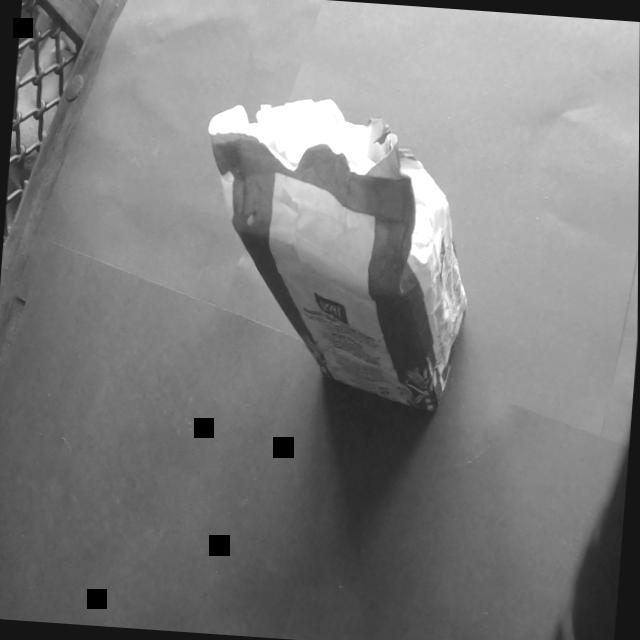Whitesugar: (173, 65, 508, 469)
